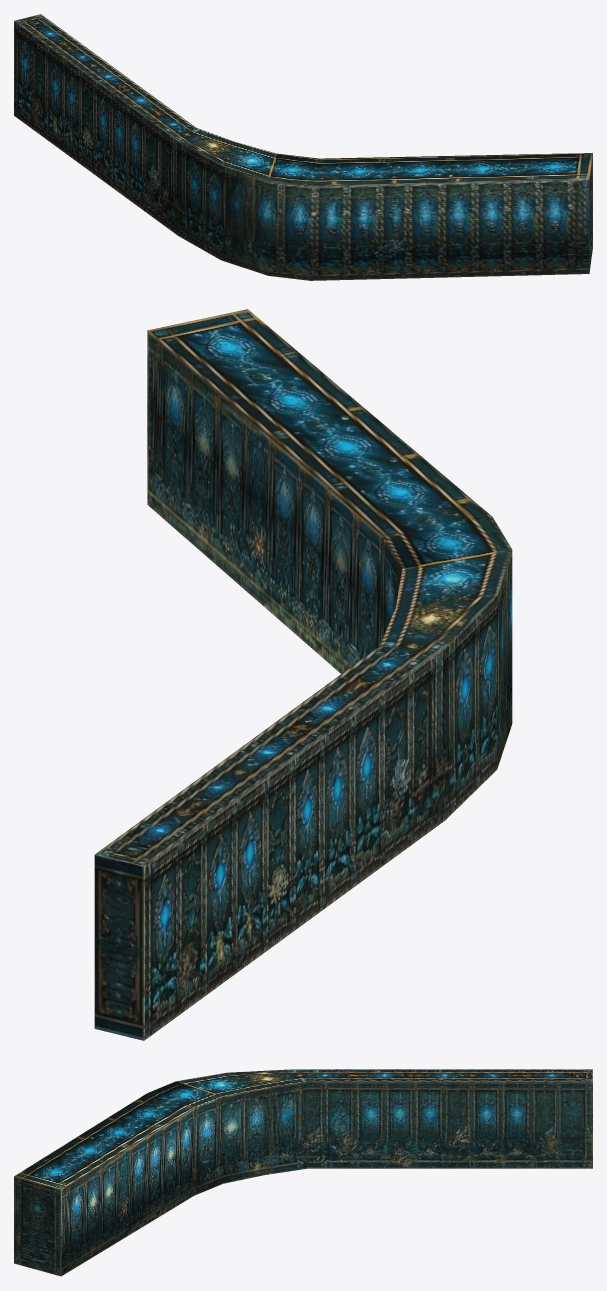
Rendered from ramp_pale_down_left_lvl_2.glb.
3 renders of one model, top to bottom at view 1: azimuth 30°, elevation 25°; view 2: azimuth 150°, elevation 25°; view 3: azimuth 270°, elevation 25°, orthographic. The views are drawn at different scales.
Parts seen in each view (by area): view 1: Mesh_0.001; view 2: Mesh_0.001; view 3: Mesh_0.001.
Part boxes in pixels (x1,y1,x2,y2): Mesh_0.001: (14,14,592,280); Mesh_0.001: (94,309,512,1040); Mesh_0.001: (14,1069,592,1276).
Size of the model in its own units: 0.135 by 0.0469 by 0.256.
1 material, 1 textured.
